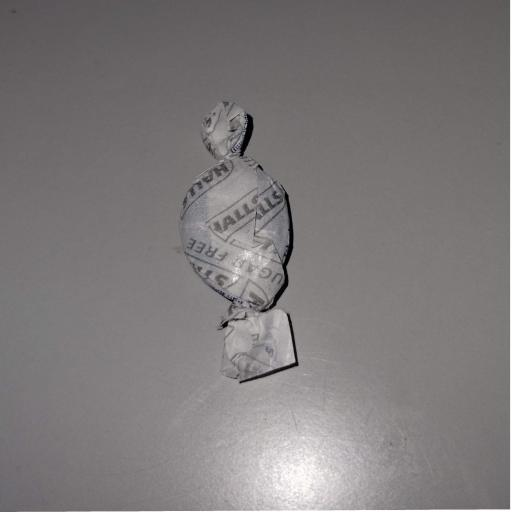chocolate: (180, 102, 296, 381)
